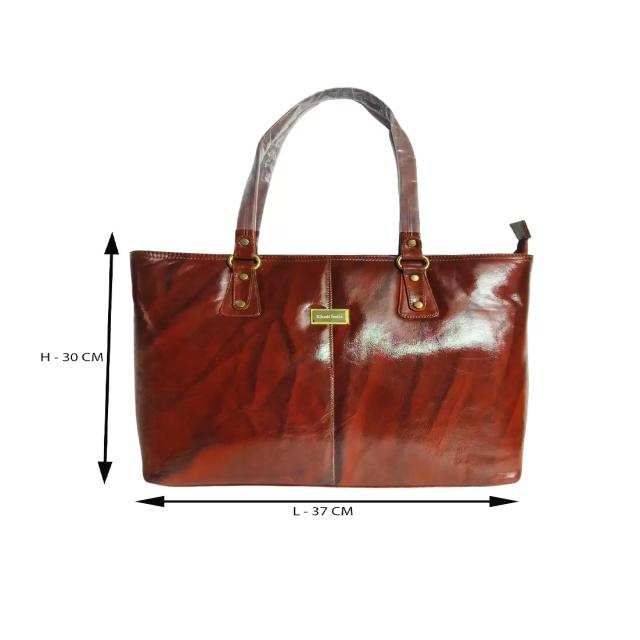handbag: (128, 86, 533, 488)
